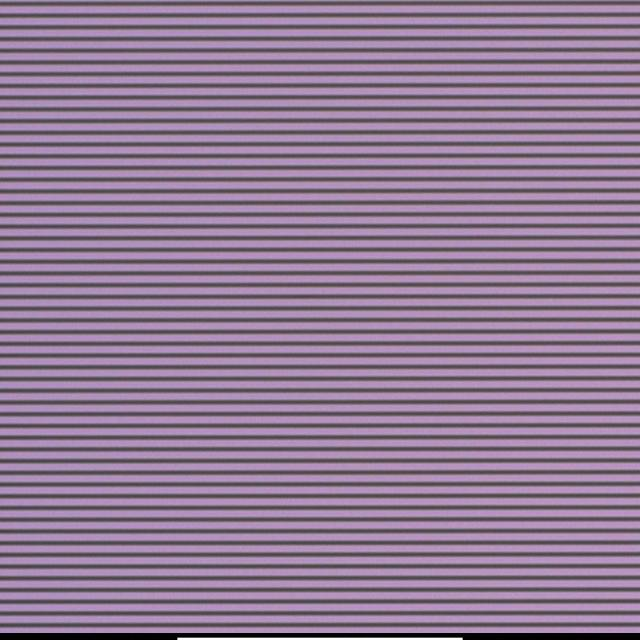nonvisual: (299, 290, 318, 304)
